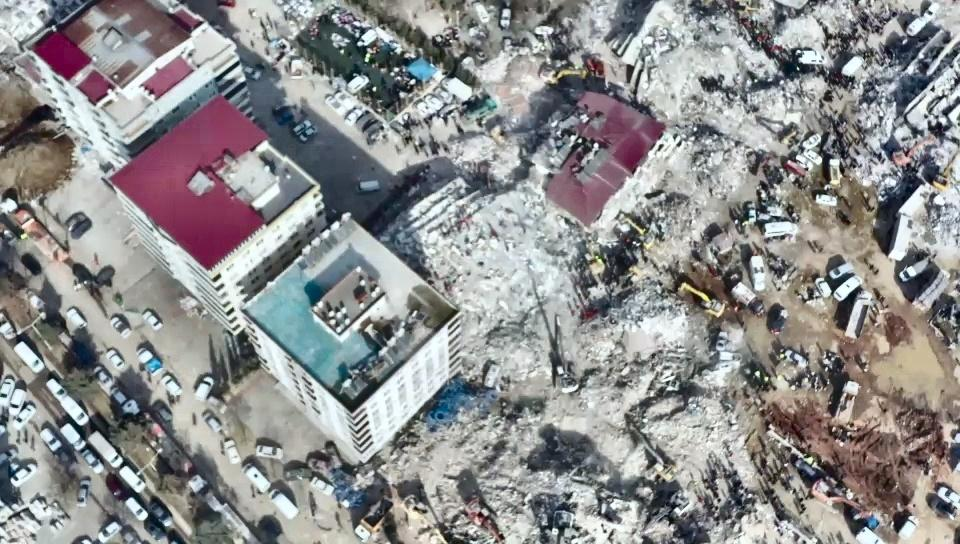kapali: (349, 141, 814, 484)
